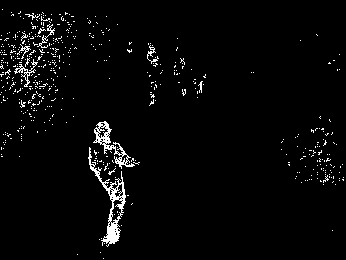person: (87, 120, 141, 246)
